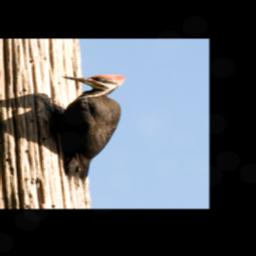Woodpecker: (35, 74, 127, 187)
